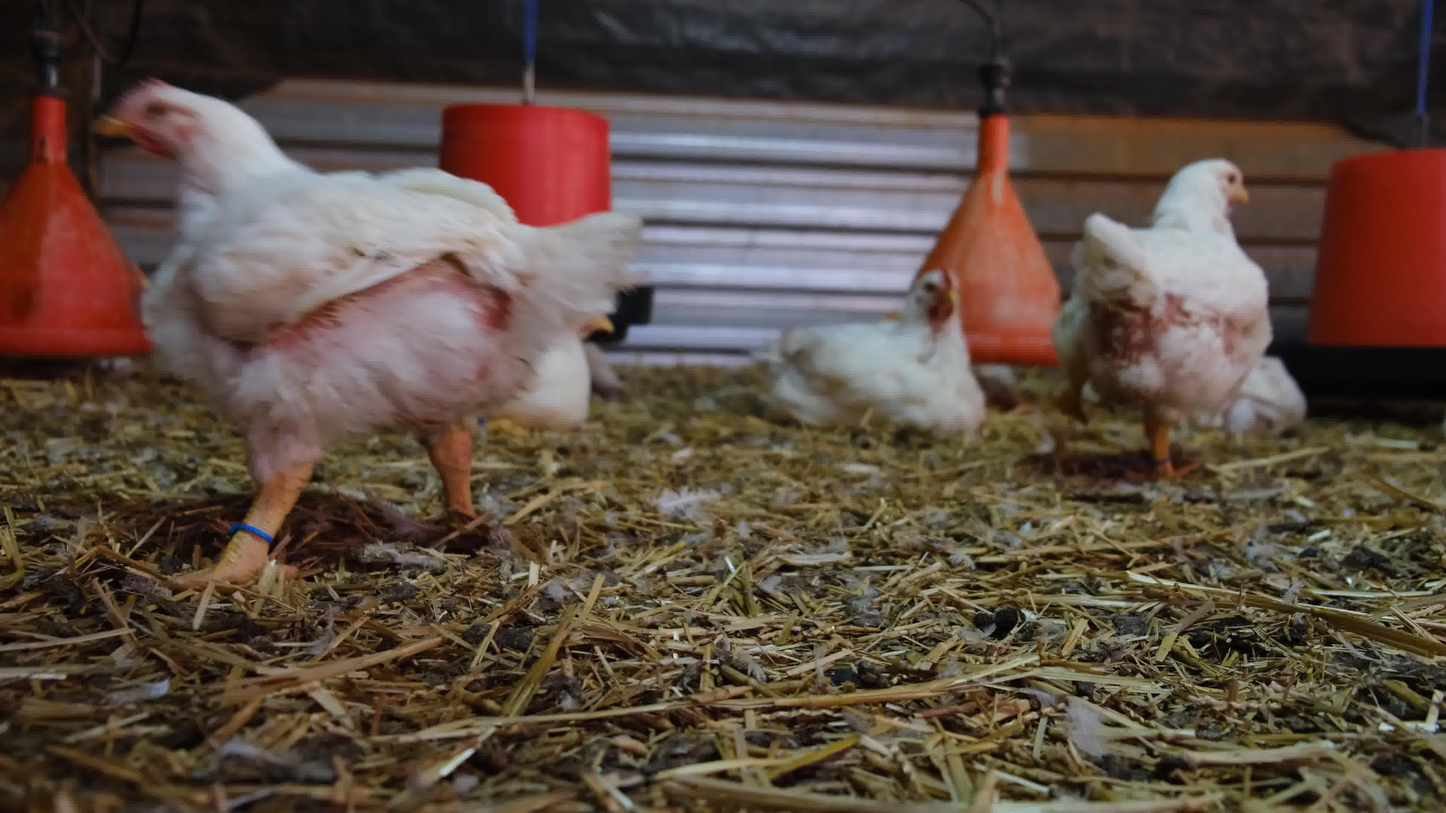AbNormal: (770, 260, 1004, 442), (533, 299, 635, 459), (1256, 333, 1339, 442)
Normal: (92, 81, 635, 615), (1054, 141, 1290, 497)
